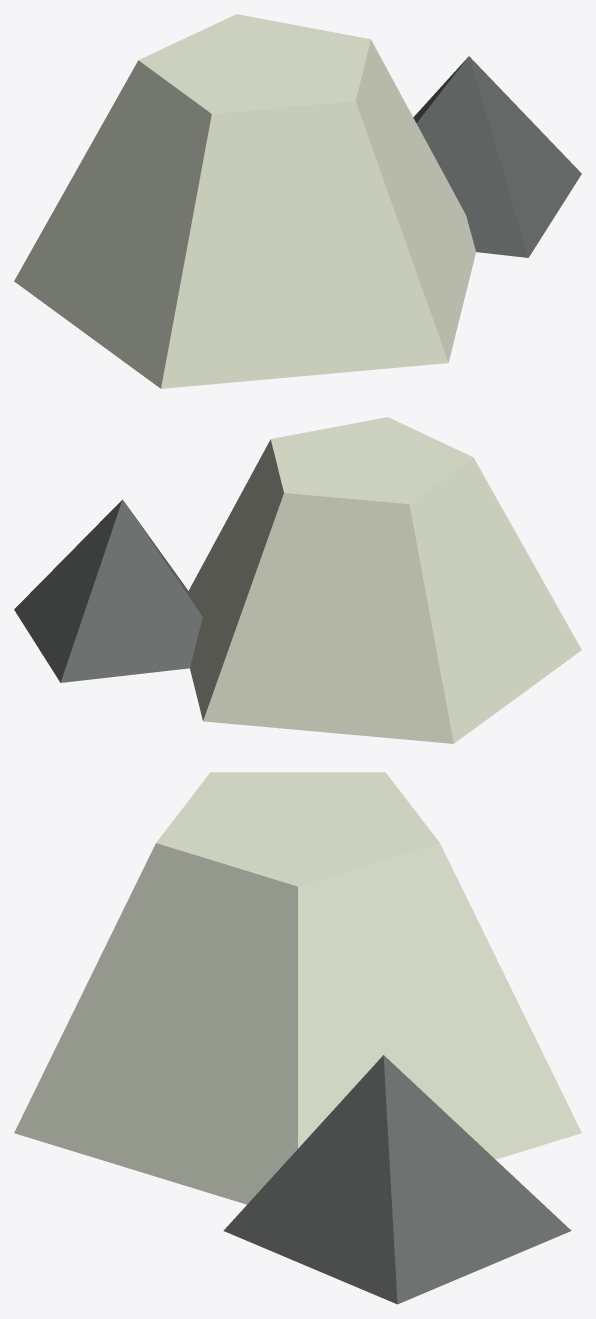
File: SnowRock.fbx
The picture shows the model from 3 angles, top to bottom: view 1: azimuth 30°, elevation 25°; view 2: azimuth 150°, elevation 25°; view 3: azimuth 270°, elevation 25°; orthographic projection. The views are drawn at different scales.
Visible parts, largest first — view 1: SnowRock; view 2: SnowRock; view 3: SnowRock.
Boxes of the visible parts, x1,y1,x2,y2 form: SnowRock: [14, 14, 581, 388]; SnowRock: [14, 417, 581, 743]; SnowRock: [14, 772, 581, 1304].
Bounding box in the file's own units: 59.42 × 24 × 45.65.
